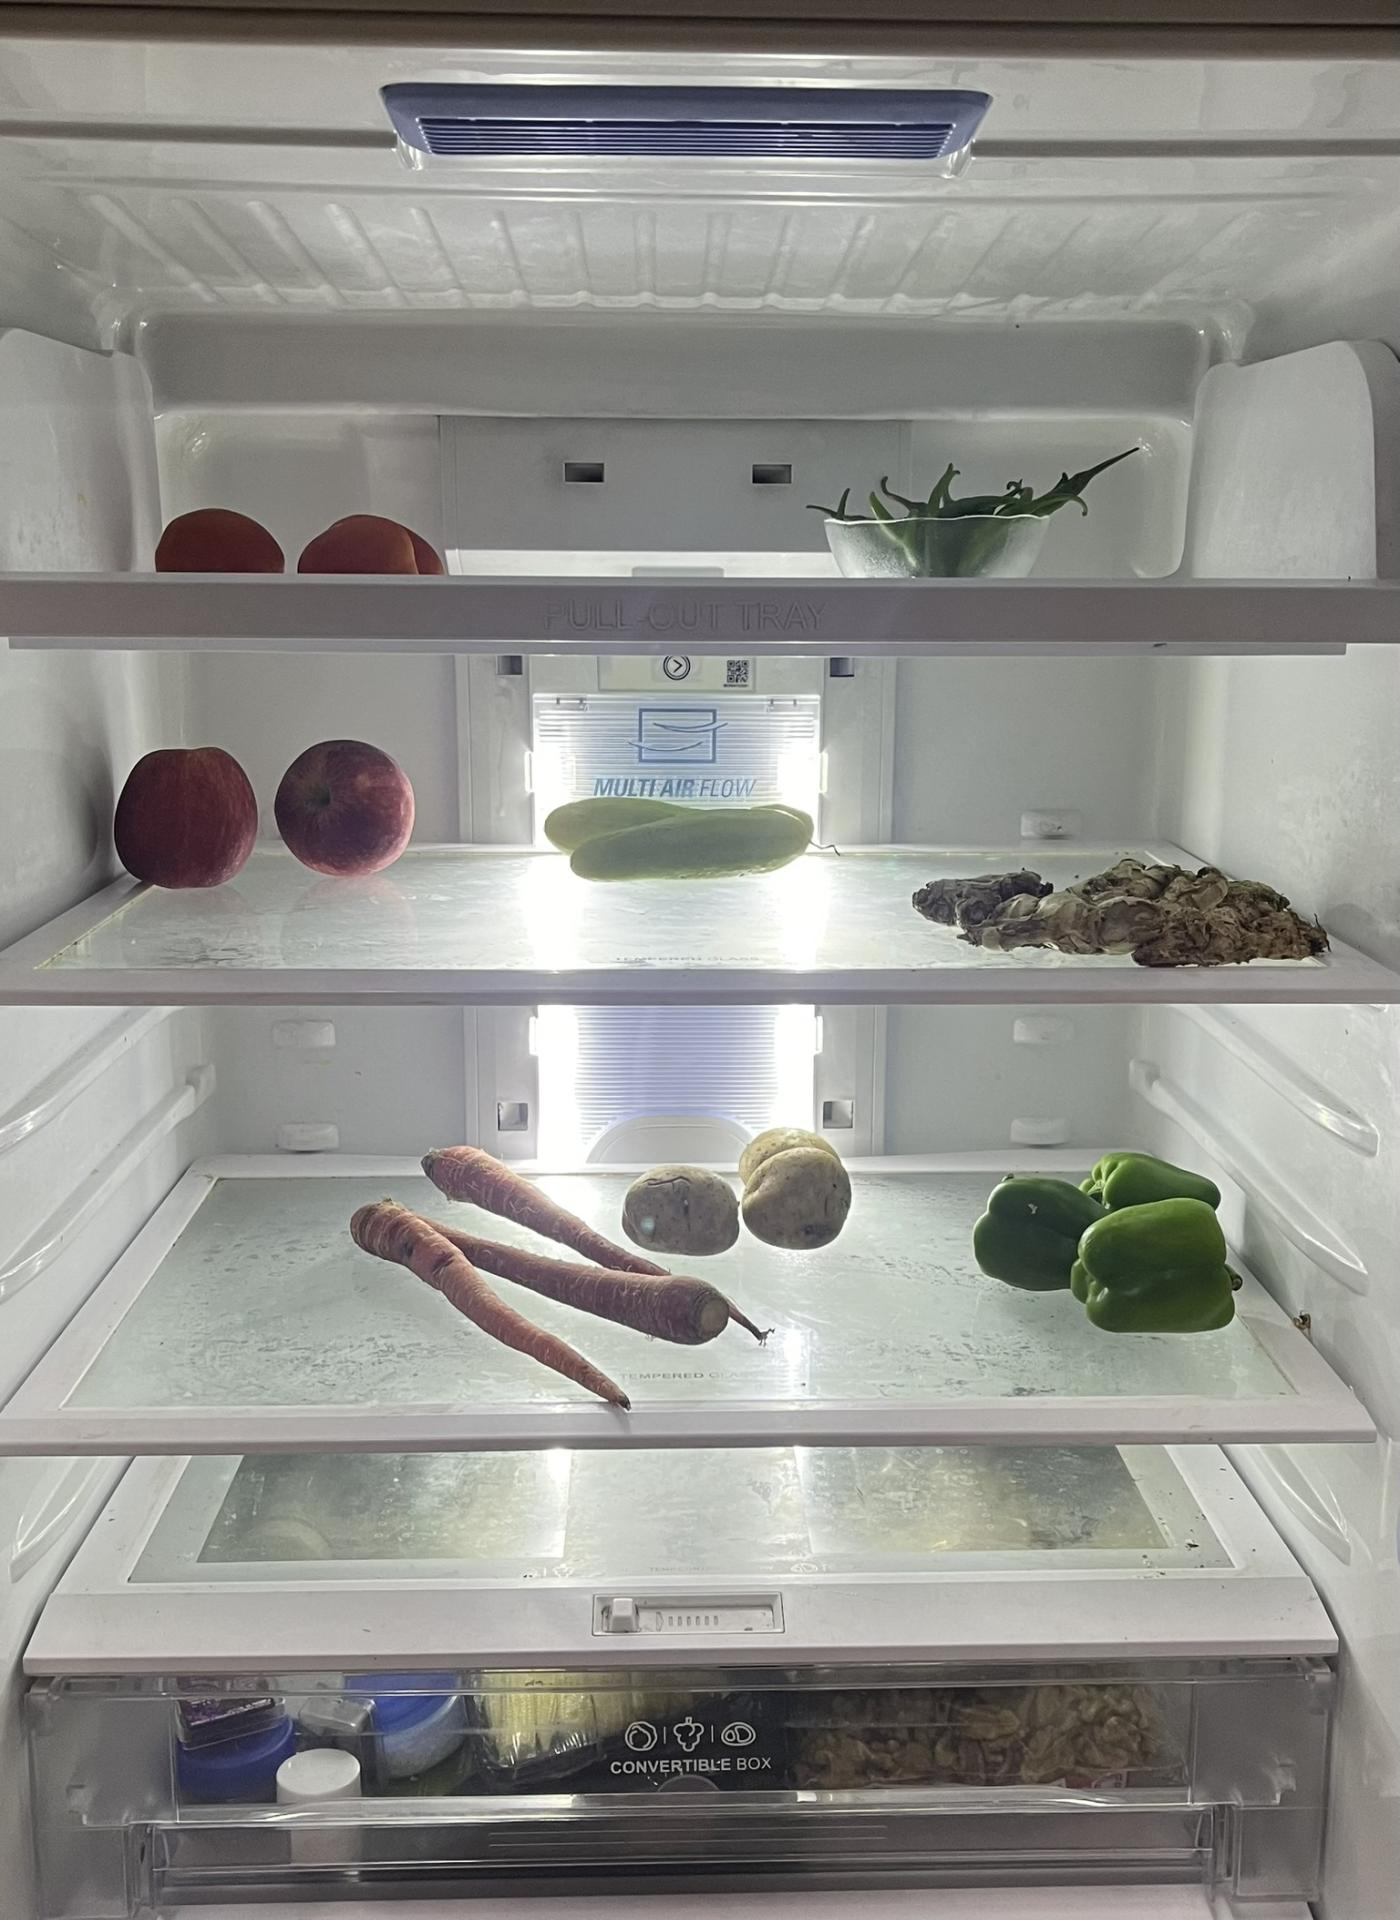apple: (115, 739, 261, 894), (271, 738, 420, 885)
capsicum: (975, 1151, 1254, 1331)
carrots: (359, 1122, 798, 1406)
chillies: (826, 440, 1130, 568)
cucumber: (540, 796, 832, 881)
ginger: (917, 850, 1327, 978)
potato: (643, 1124, 863, 1255)
tomato: (292, 511, 447, 589), (155, 496, 289, 575)
